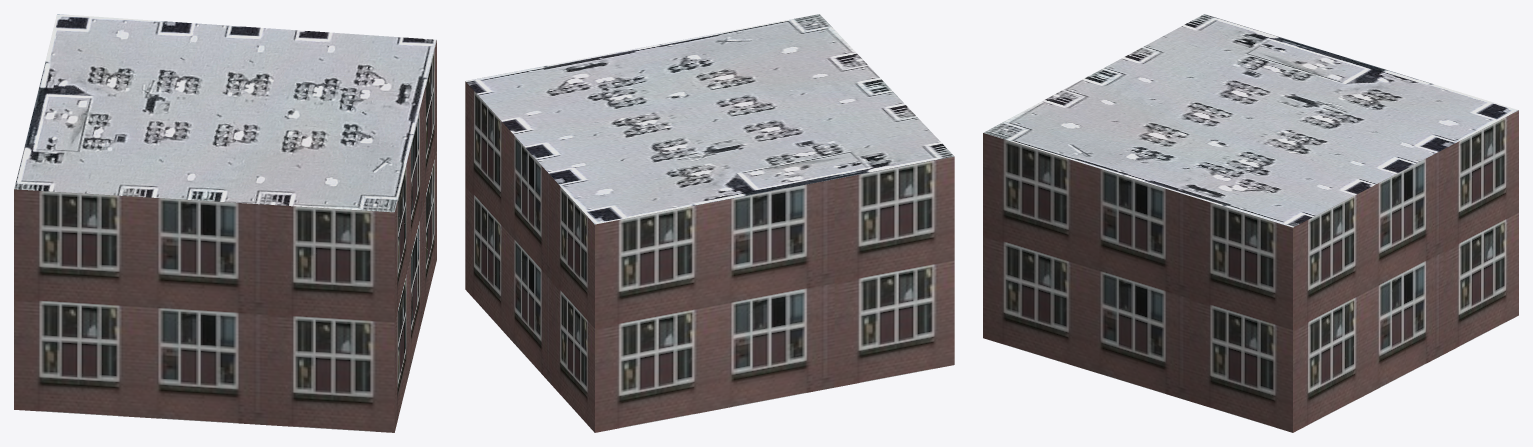
The model's file is ResTex__294.fbx.
3 views of the same model, side by side, from view 1: azimuth 30°, elevation 25°; view 2: azimuth 150°, elevation 25°; view 3: azimuth 270°, elevation 25° (orthographic). The views are drawn at different scales.
Parts seen in each view (by area): view 1: CityEngineMaterial_12_m, CityEngineMaterial_4_m; view 2: CityEngineMaterial_12_m, CityEngineMaterial_4_m; view 3: CityEngineMaterial_12_m, CityEngineMaterial_4_m.
Part boxes in pixels (x1,y1,x2,y2): CityEngineMaterial_12_m: (14,40,436,432); CityEngineMaterial_4_m: (14,14,436,212); CityEngineMaterial_12_m: (465,81,954,432); CityEngineMaterial_4_m: (465,14,954,224); CityEngineMaterial_12_m: (983,110,1518,432); CityEngineMaterial_4_m: (983,14,1518,227).
Bounding box in the file's own units: 13.39 × 6 × 14.19.
Materials: 2 (2 with a texture image).
